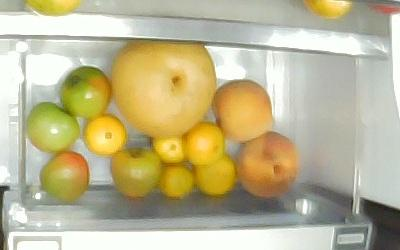peach: (233, 130, 297, 197), (210, 78, 272, 141)
pear: (109, 43, 217, 137)
tangerine: (183, 121, 225, 166), (194, 151, 236, 195), (83, 114, 127, 155), (157, 161, 195, 198), (150, 134, 187, 163)
tomato: (57, 65, 111, 118), (108, 145, 162, 198), (24, 100, 79, 152), (38, 148, 89, 201)
